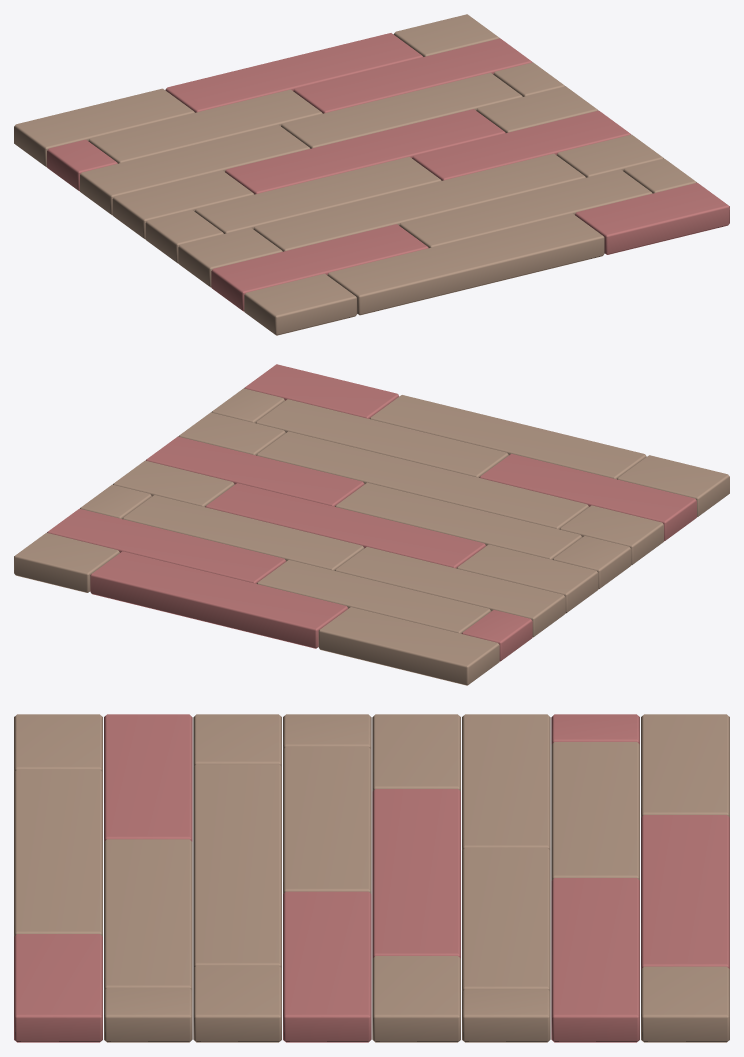
Rendered from Floor_22.glb.
3 renders of one model, top to bottom at view 1: azimuth 30°, elevation 25°; view 2: azimuth 150°, elevation 25°; view 3: azimuth 270°, elevation 25°, orthographic. The views are drawn at different scales.
Parts seen in each view (by area): view 1: Floor_22; view 2: Floor_22; view 3: Floor_22.
Boxes of the visible parts, x1,y1,x2,y2 form: Floor_22: [14, 14, 729, 335]; Floor_22: [14, 364, 729, 685]; Floor_22: [14, 714, 729, 1042].
Bounding box in the file's own units: 4.6 × 0.2 × 4.6.
1 material, 1 textured.
